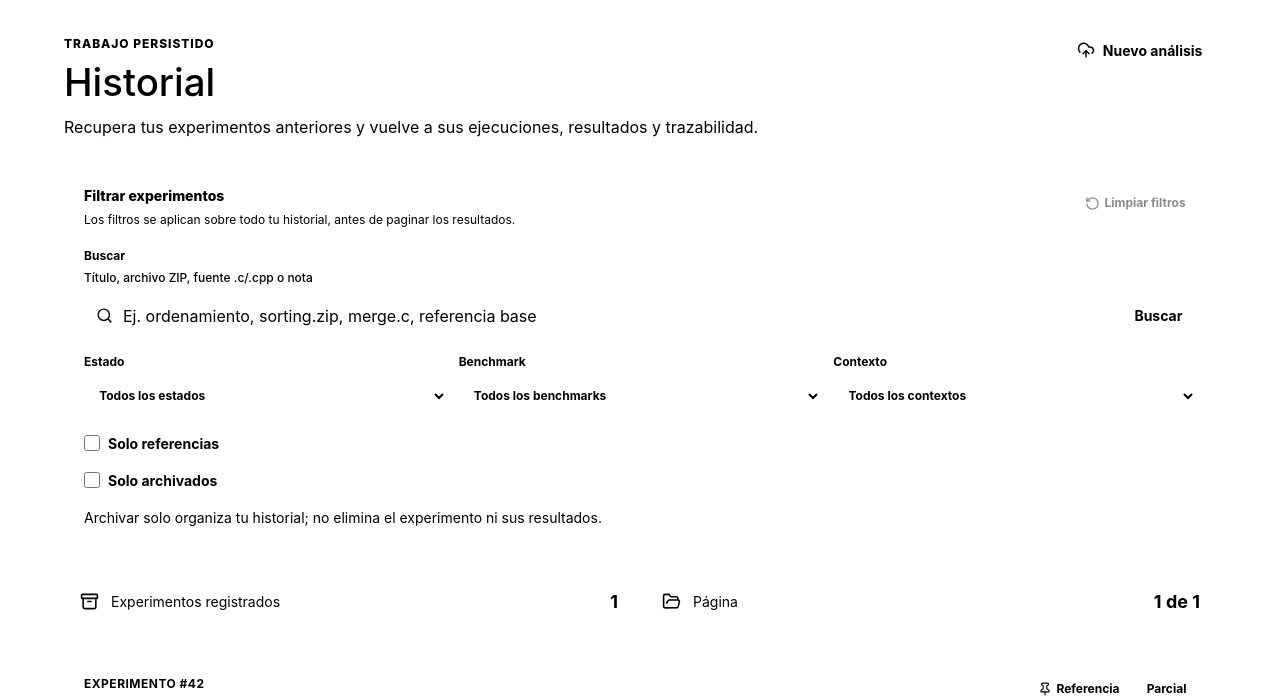
Scenario: HistoryPage › shows a filtered empty state instead of the first-analysis empty state
Select "LCS" in the dropdown named "Filtrar por benchmark" at (640, 396), box [459, 375, 821, 417]
(page scrolled)
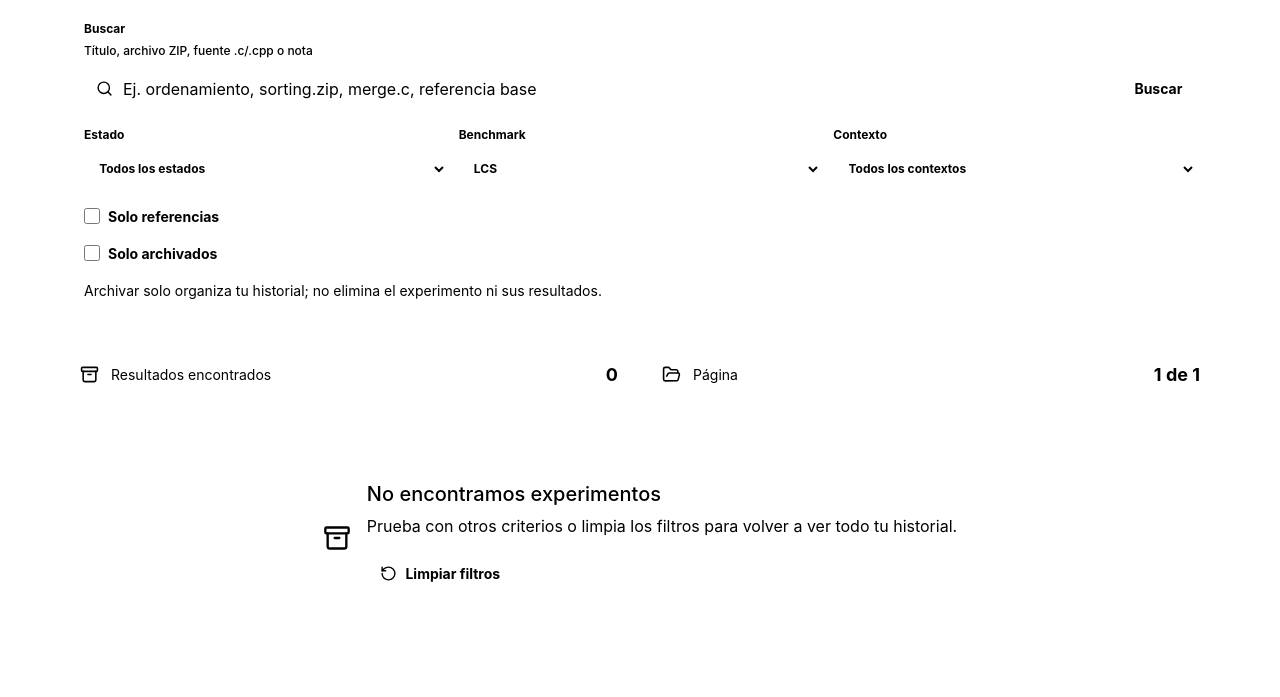
Expected: the heading "No encontramos experimentos" is shown, [367, 482, 661, 506]
